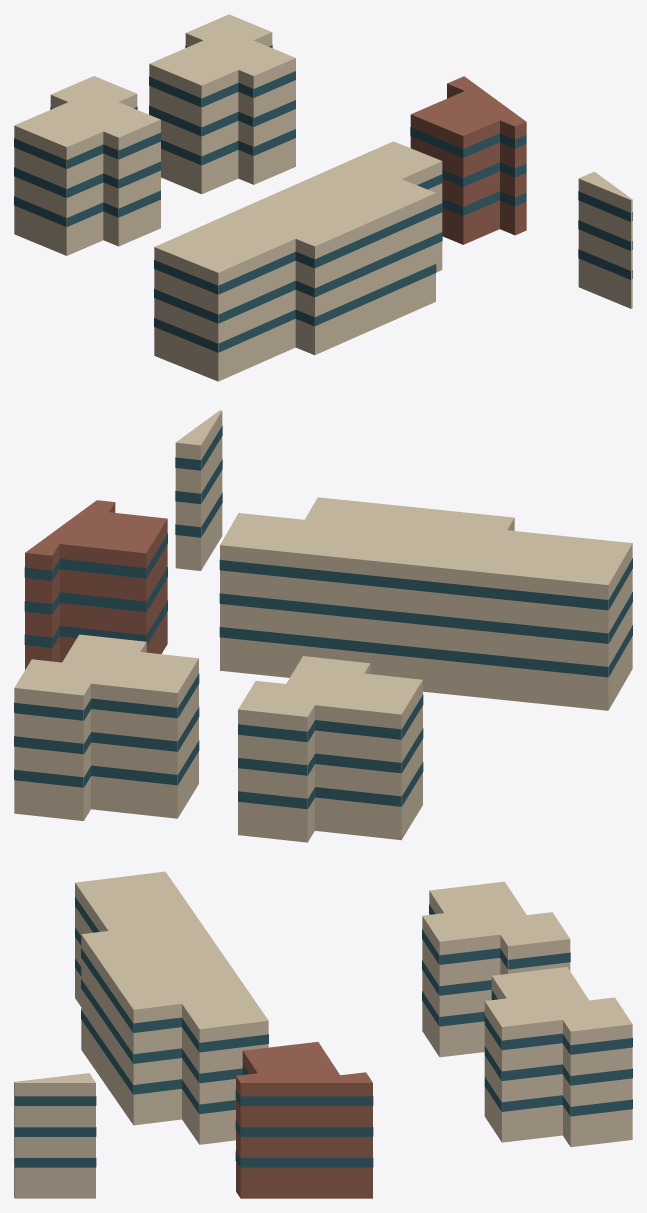
File: city_10_-8.glb
3 renders of one model, top to bottom at view 1: azimuth 30°, elevation 25°; view 2: azimuth 150°, elevation 25°; view 3: azimuth 270°, elevation 25°, orthographic. The views are drawn at different scales.
Parts seen in each view (by area): view 1: city_10_-8; view 2: city_10_-8; view 3: city_10_-8.
Part boxes in pixels (left/top/right/bottom): city_10_-8: left=14, top=14, right=632, bottom=381; city_10_-8: left=14, top=410, right=632, bottom=842; city_10_-8: left=14, top=871, right=632, bottom=1198.
Bounding box in the file's own units: 58.88 × 15 × 72.78.
